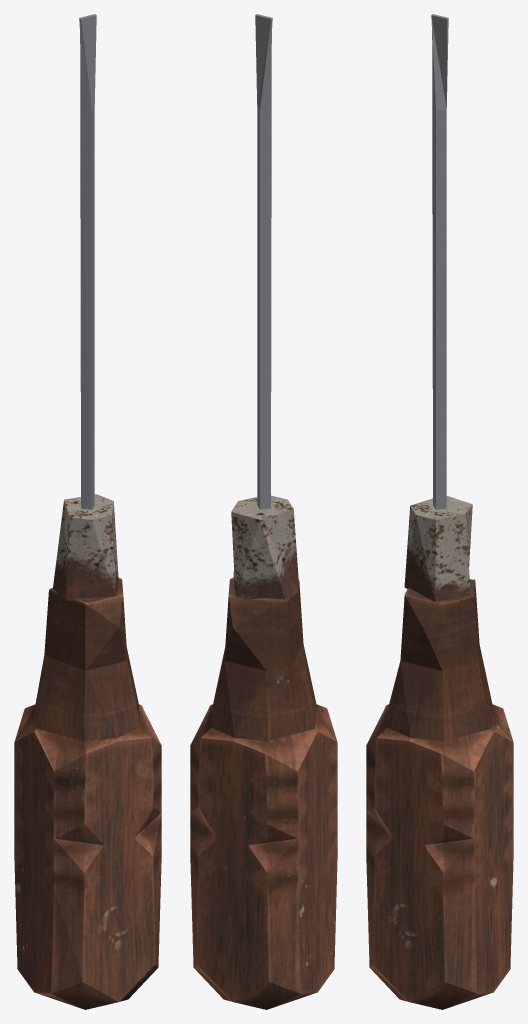
Rendered from FlatheadScrewdriver_LOD2.obj.
The picture shows the model from 3 angles, left to right: view 1: azimuth 30°, elevation 25°; view 2: azimuth 150°, elevation 25°; view 3: azimuth 330°, elevation 25°; orthographic projection.
Parts seen in each view (by area): view 1: Cylinder_005; view 2: Cylinder_005; view 3: Cylinder_005.
Part boxes in pixels (x1,y1,x2,y2): Cylinder_005: [14, 14, 161, 1009]; Cylinder_005: [190, 14, 337, 1009]; Cylinder_005: [366, 14, 513, 1009].
Bounding box in the file's own units: 0.03 × 0.2613 × 0.03.
Materials: 1 (1 with a texture image).
